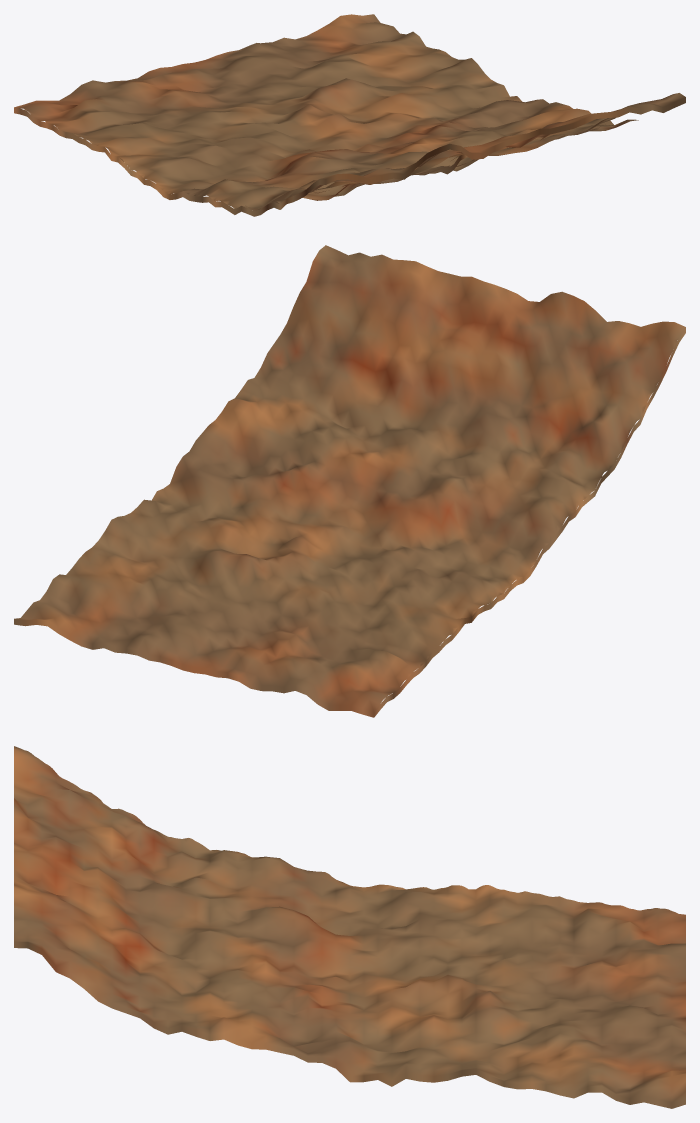
The model's file is terrain-126.glb.
3 views of the same model, one above another, from view 1: azimuth 30°, elevation 25°; view 2: azimuth 150°, elevation 25°; view 3: azimuth 270°, elevation 25° (orthographic). The views are drawn at different scales.
Parts seen in each view (by area): view 1: terrain-126; view 2: terrain-126; view 3: terrain-126.
Part boxes in pixels (x1=…): terrain-126: x1=14, y1=14, x2=685, y2=216; terrain-126: x1=14, y1=245, x2=685, y2=717; terrain-126: x1=14, y1=746, x2=685, y2=1108.
Bounding box in the file's own units: 256 × 117 × 384.
